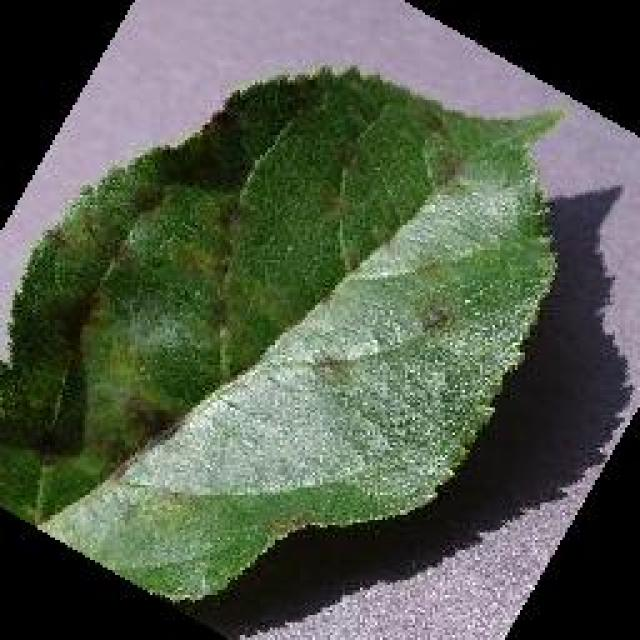apple scab disease: (0, 60, 568, 605)
